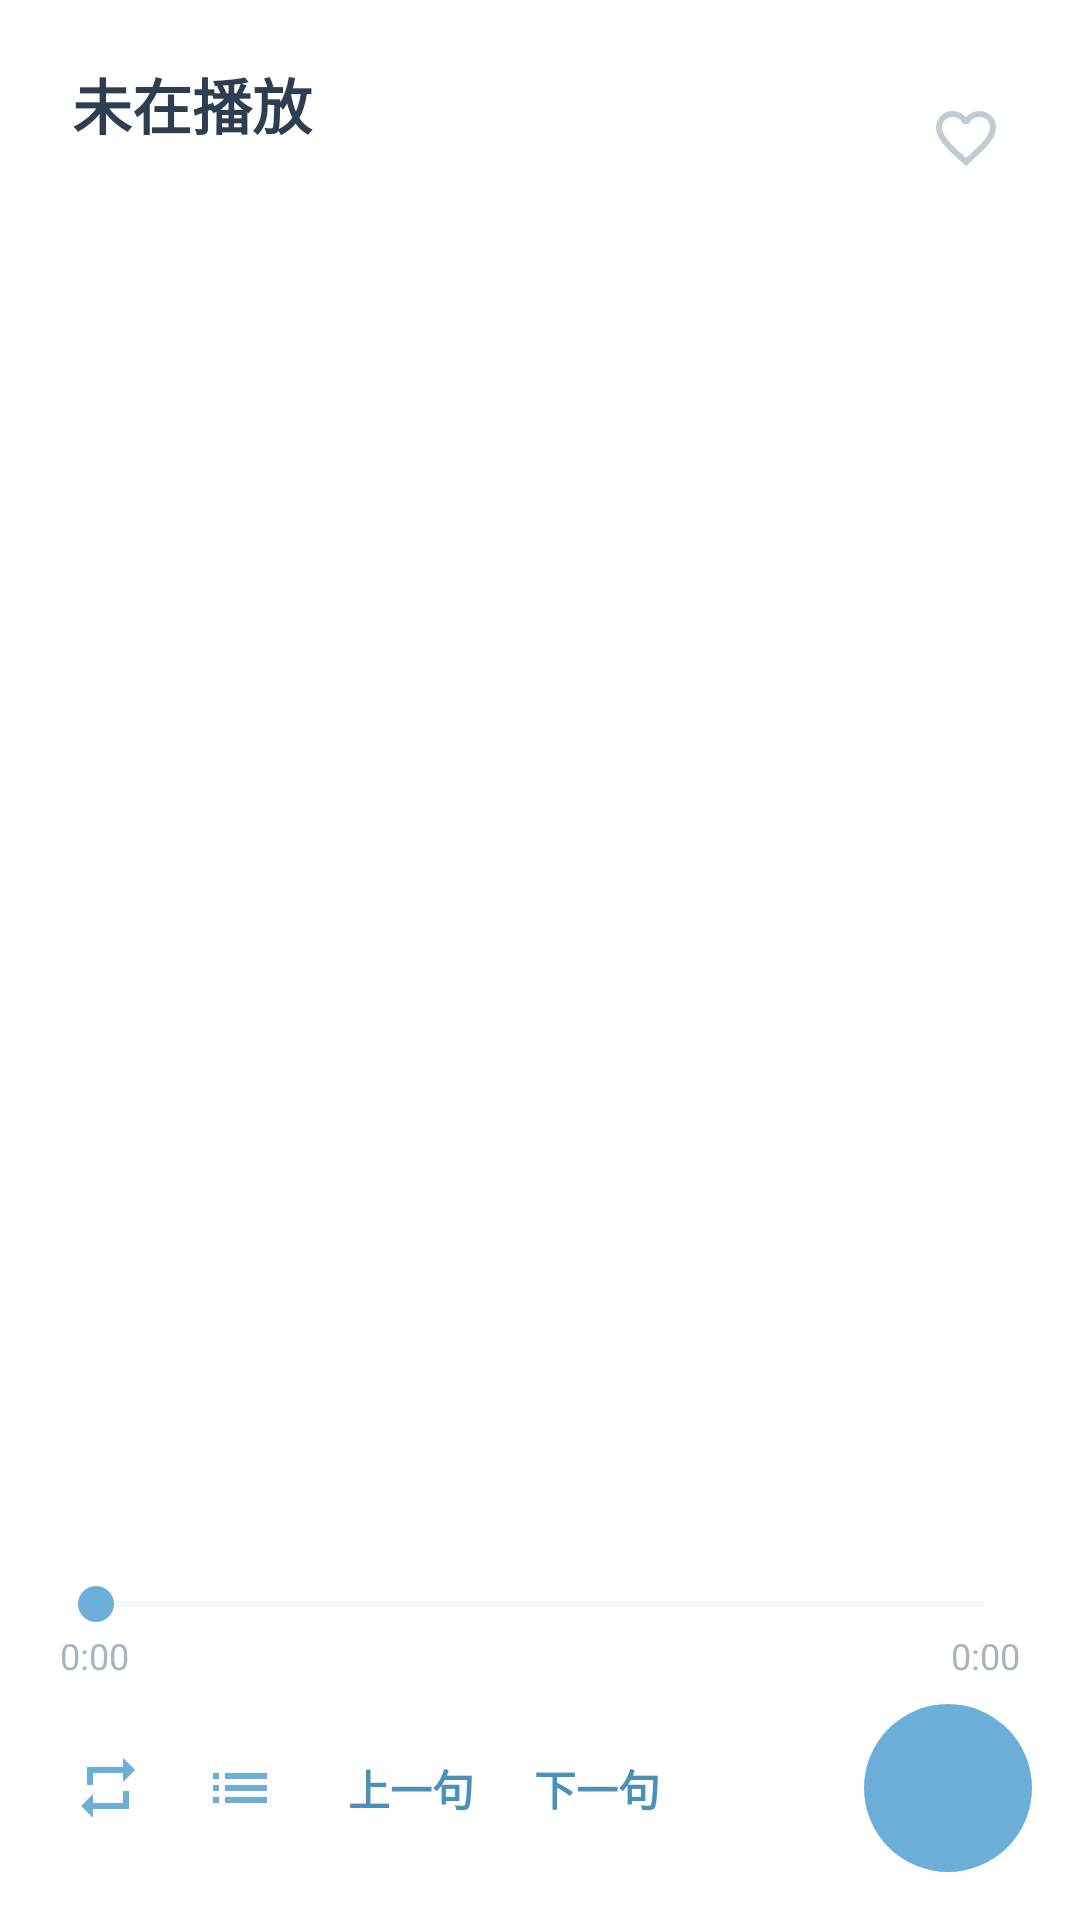

Point at icon controls on the screen. Image size 1080w x 1920h, points as [x,y].
repeat folder: [108,1788]
收藏: [966,138]
